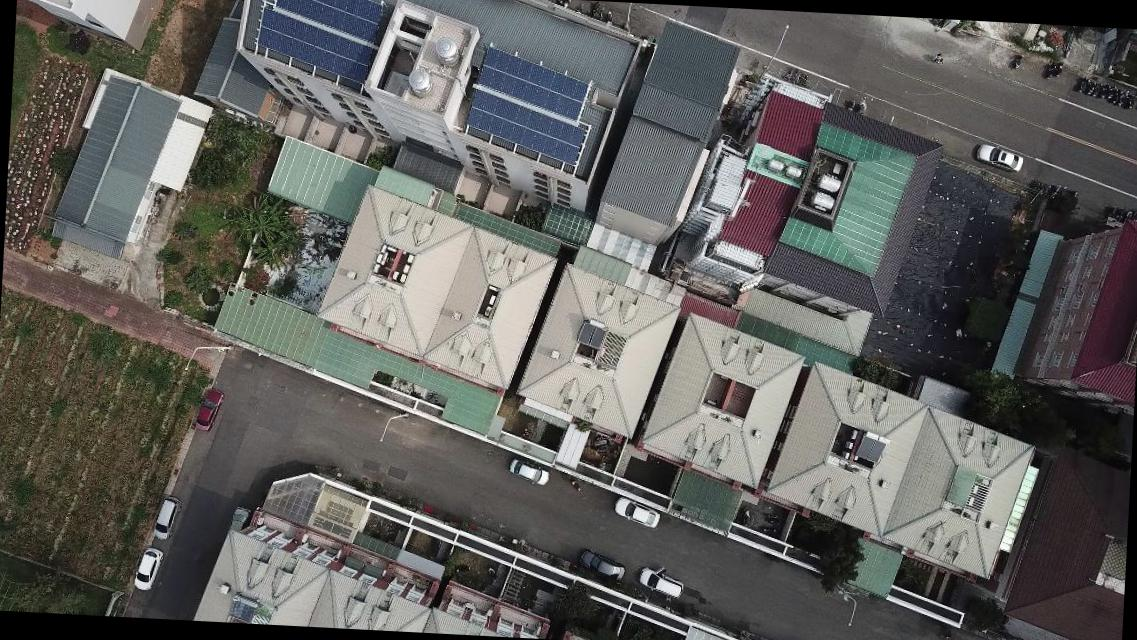vehicle: (610, 496, 662, 530), (577, 548, 626, 584), (634, 567, 684, 599), (974, 142, 1024, 172), (151, 494, 180, 542), (132, 546, 162, 590), (506, 459, 550, 486), (197, 387, 222, 432)
